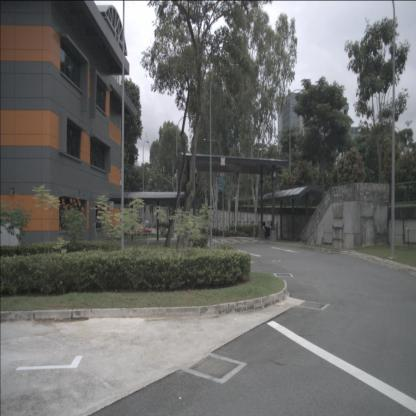vehicle-car: (133, 221, 152, 235)
vehicle-motorcycle: (261, 220, 276, 239)
